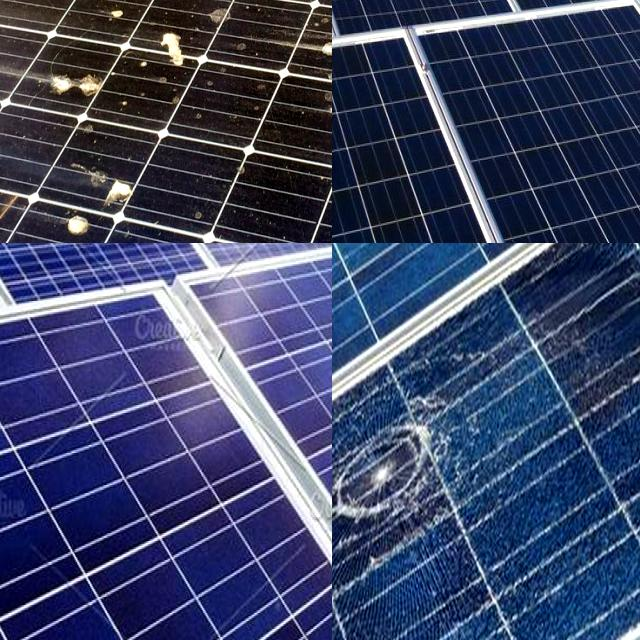bird: (46, 49, 111, 107), (158, 12, 202, 85), (154, 0, 239, 32), (101, 156, 150, 210), (48, 202, 93, 242), (95, 0, 133, 29), (307, 30, 332, 70), (292, 0, 332, 20), (269, 0, 308, 16), (247, 0, 274, 21), (314, 93, 332, 120), (176, 0, 215, 12), (175, 0, 220, 8)
crack: (0, 285, 332, 640), (179, 265, 332, 640), (332, 23, 578, 243), (411, 26, 640, 243), (0, 243, 243, 327), (447, 0, 640, 80), (332, 0, 529, 78), (133, 243, 332, 310), (332, 0, 413, 77)
hotspot: (332, 399, 461, 562)
